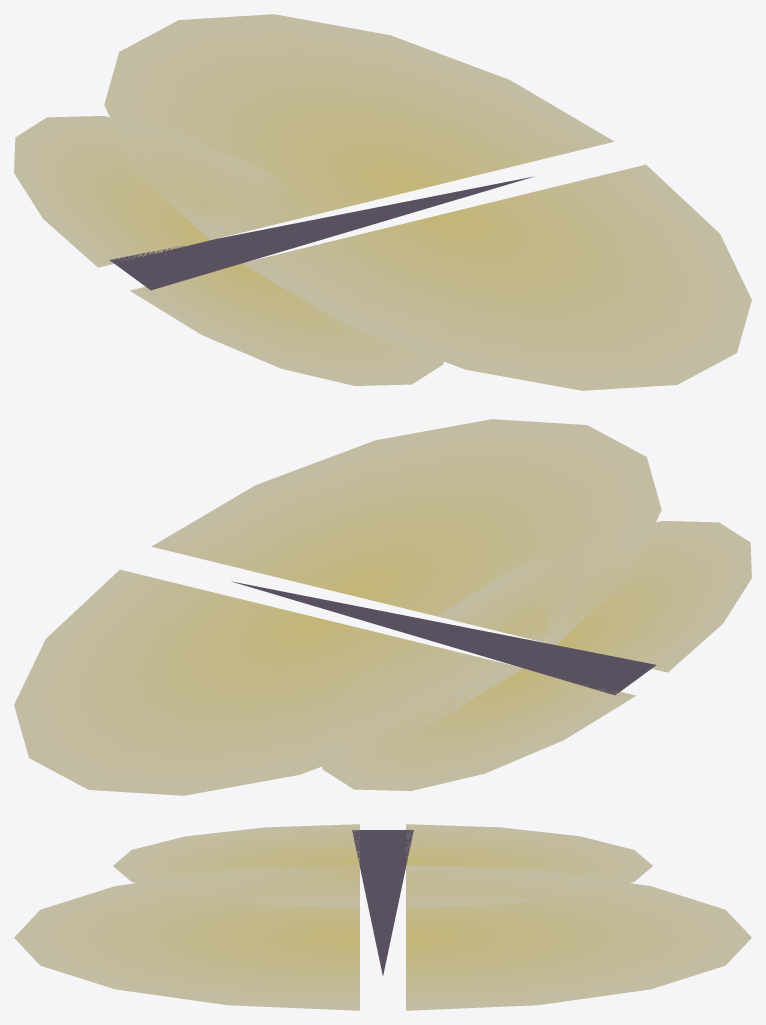
File: SM_GR_Butterfly_Yellow.fbx
The picture shows the model from 3 angles, top to bottom: view 1: azimuth 30°, elevation 25°; view 2: azimuth 150°, elevation 25°; view 3: azimuth 270°, elevation 25°; orthographic projection. The views are drawn at different scales.
Parts seen in each view (by area): view 1: SM_GR_Butterfly_Yellow; view 2: SM_GR_Butterfly_Yellow; view 3: SM_GR_Butterfly_Yellow.
Boxes of the visible parts, x1=… form: SM_GR_Butterfly_Yellow: x1=14, y1=14, x2=751, y2=390; SM_GR_Butterfly_Yellow: x1=14, y1=419, x2=751, y2=795; SM_GR_Butterfly_Yellow: x1=14, y1=824, x2=751, y2=1010.
Bounding box in the file's own units: 5.72 × 4.18e-07 × 9.56.
